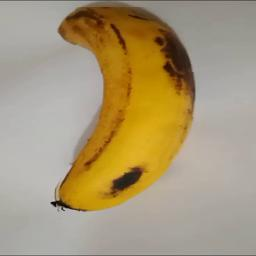Banana Semifresh: (52, 8, 196, 221)
